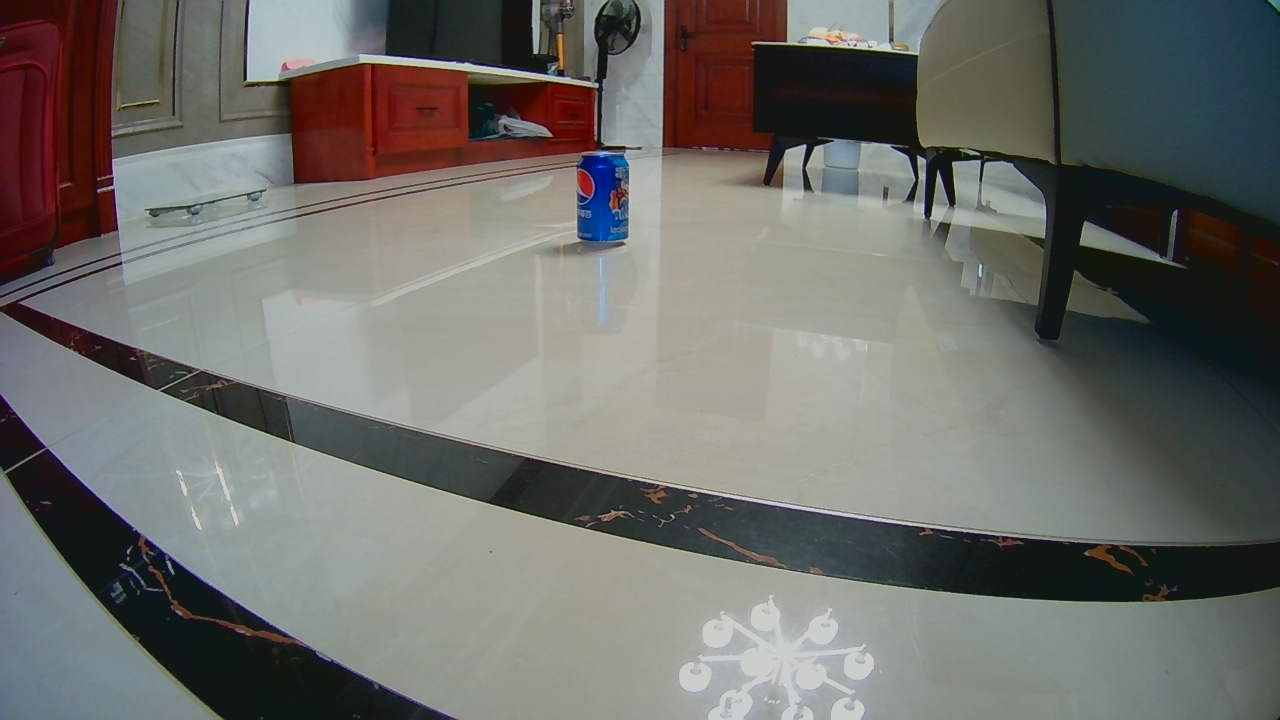pessi: (578, 154, 631, 245)
